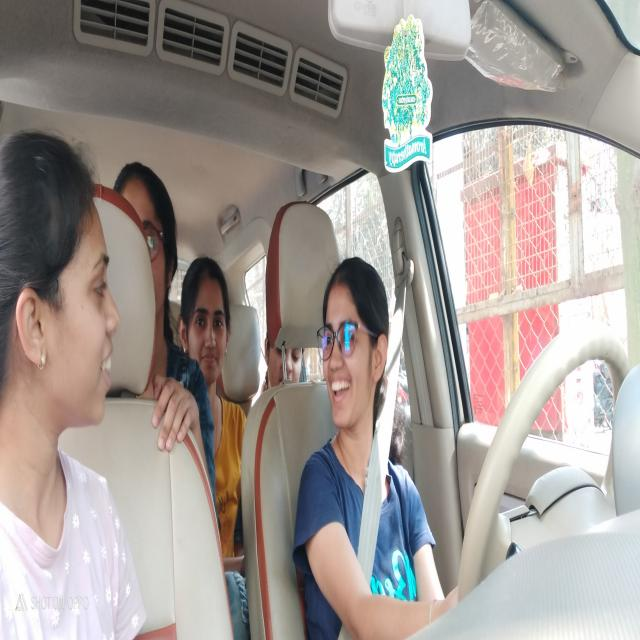LeftRight: (320, 255, 390, 431)
person: (0, 123, 119, 434), (119, 152, 180, 336), (183, 248, 228, 384), (267, 337, 306, 393)
talking: (98, 337, 114, 390), (328, 372, 353, 401)
